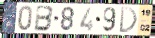0: (18, 5, 34, 32)
4: (79, 6, 95, 32)
8: (60, 6, 76, 32)
9: (102, 7, 117, 33)
B: (33, 5, 55, 33)
D: (118, 6, 138, 34)
